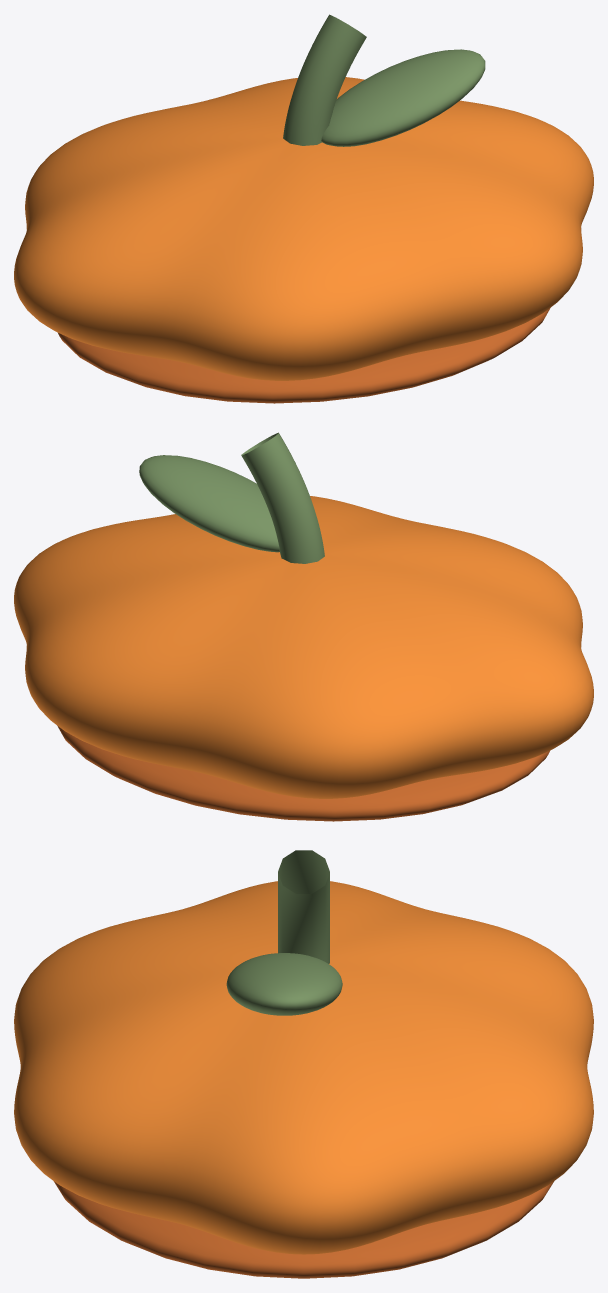
The model's file is 17-pumpkin-beret.glb.
3 views of the same model, one above another, from view 1: azimuth 30°, elevation 25°; view 2: azimuth 150°, elevation 25°; view 3: azimuth 270°, elevation 25° (orthographic). The views are drawn at different scales.
Visible parts, largest first — view 1: pumpkin_beret, pumpkin_rim, pumpkin_leaf, pumpkin_stem; view 2: pumpkin_beret, pumpkin_rim, pumpkin_leaf, pumpkin_stem; view 3: pumpkin_beret, pumpkin_rim, pumpkin_leaf, pumpkin_stem.
Boxes of the visible parts, x1,y1,x2,y2 form: pumpkin_beret: (14, 77, 593, 380); pumpkin_rim: (58, 307, 550, 403); pumpkin_leaf: (321, 49, 485, 146); pumpkin_stem: (283, 14, 366, 145); pumpkin_beret: (14, 496, 593, 798); pumpkin_rim: (57, 725, 549, 821); pumpkin_leaf: (139, 455, 279, 552); pumpkin_stem: (241, 432, 324, 563); pumpkin_beret: (14, 881, 593, 1254); pumpkin_rim: (53, 1181, 554, 1278); pumpkin_leaf: (226, 953, 342, 1015); pumpkin_stem: (278, 850, 329, 963).
Bounding box in the file's own units: 0.7596 × 0.4002 × 0.5989.
